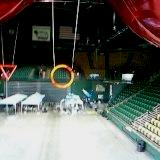Orange_Circle_GShape: (50, 64, 75, 88)
Orange_Triangle_Gshape: (0, 65, 16, 81)
